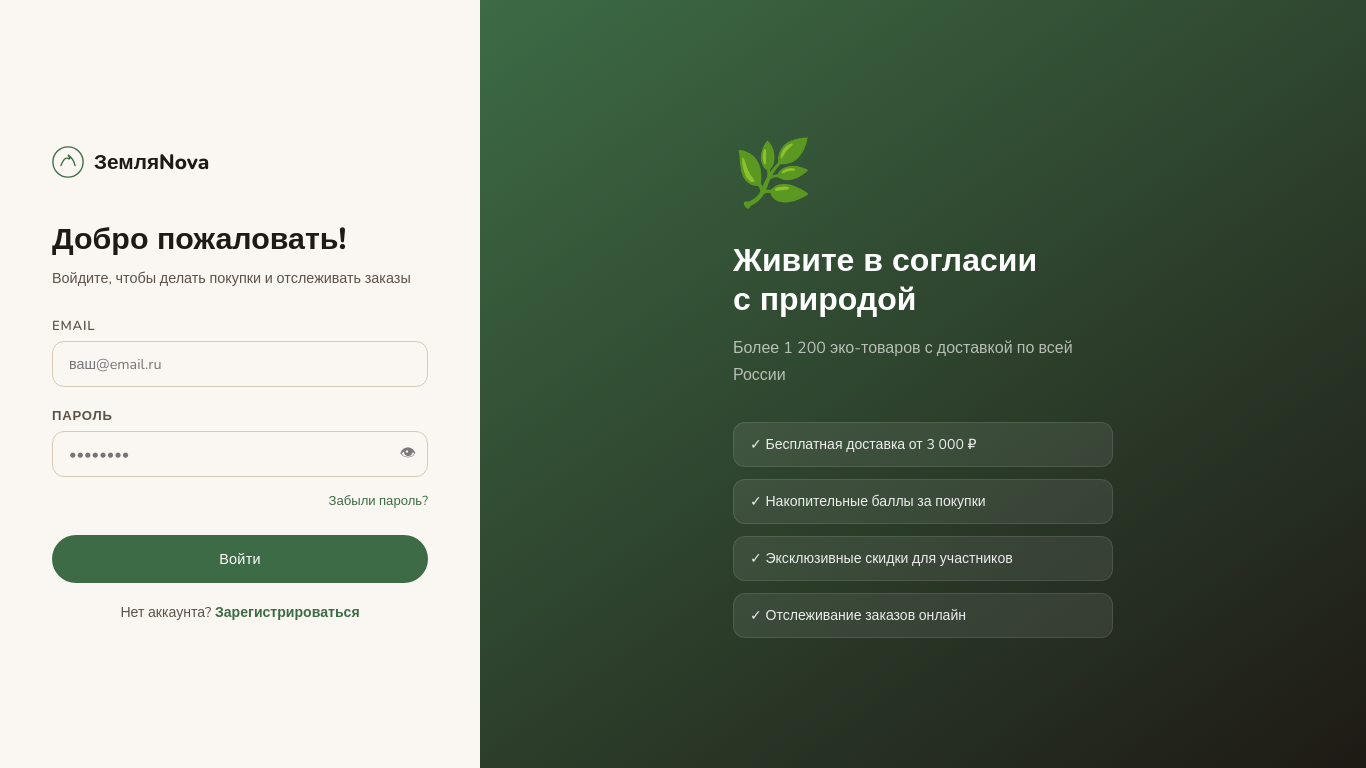
Test case: LoginPage › показывает ошибку сервера при неверных данных
Step 1. Type "test@test.com" into the field with placeholder "ваш@email.ru" → {"x": 240, "y": 364}, box [52,341,428,387]
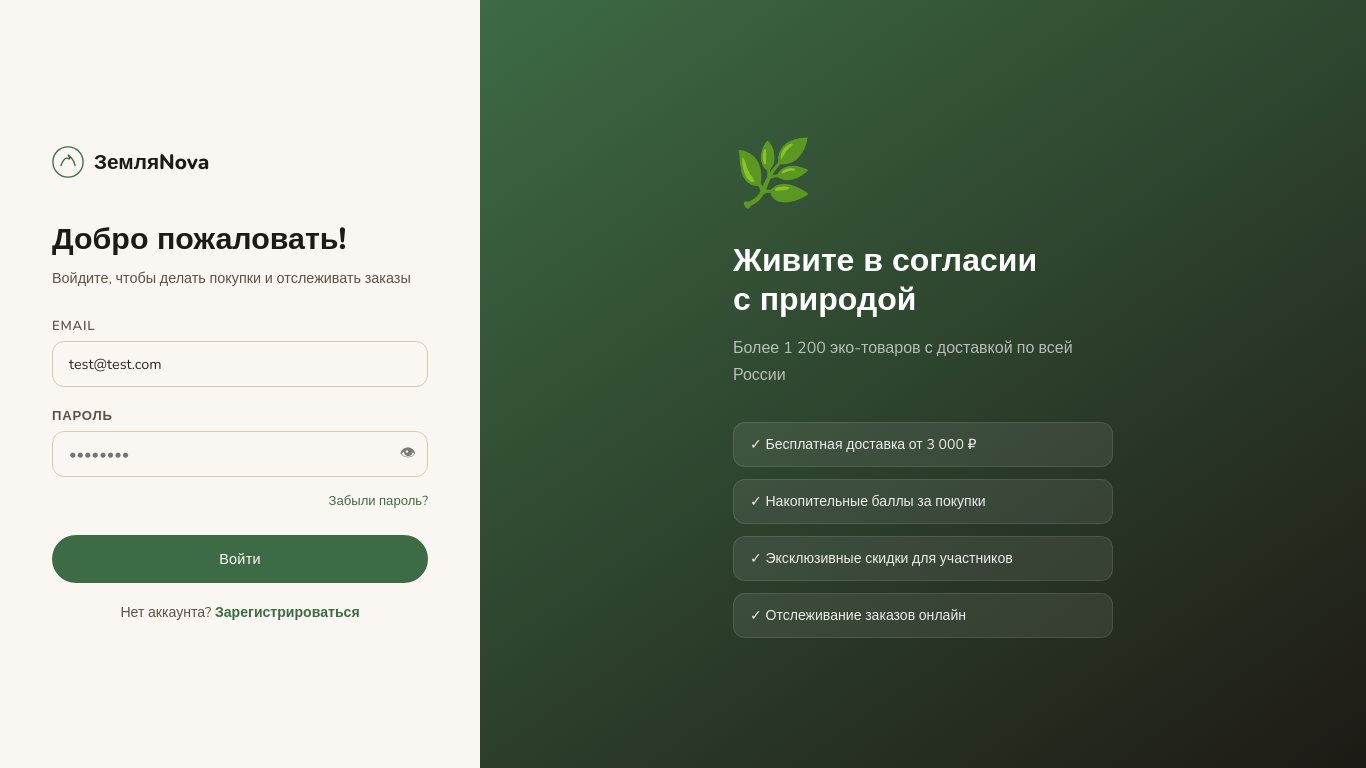
Step 2. Type "wrongpassword" into the password field with placeholder "••••••••" → {"x": 240, "y": 454}, box [52,431,428,477]
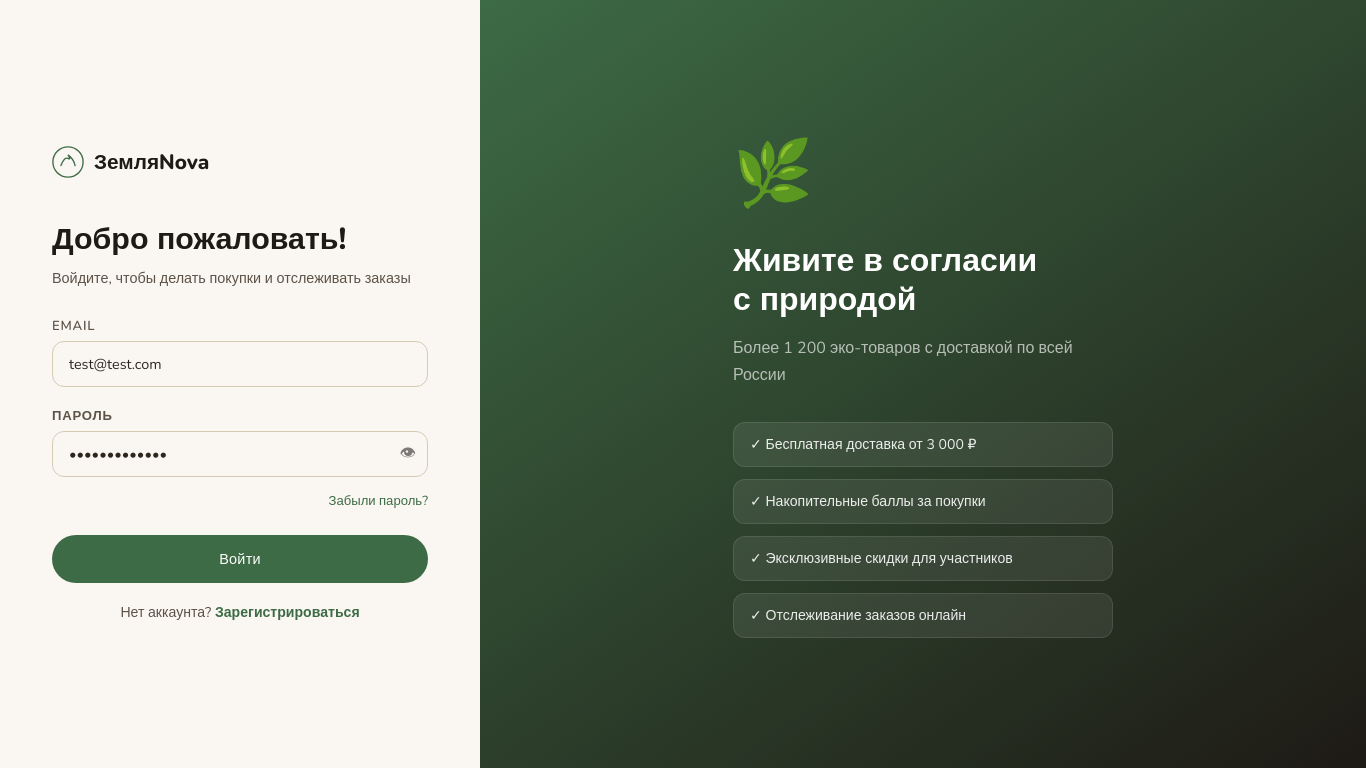
Step 3. Click the button "Войти" → {"x": 240, "y": 559}, box [52,535,428,583]
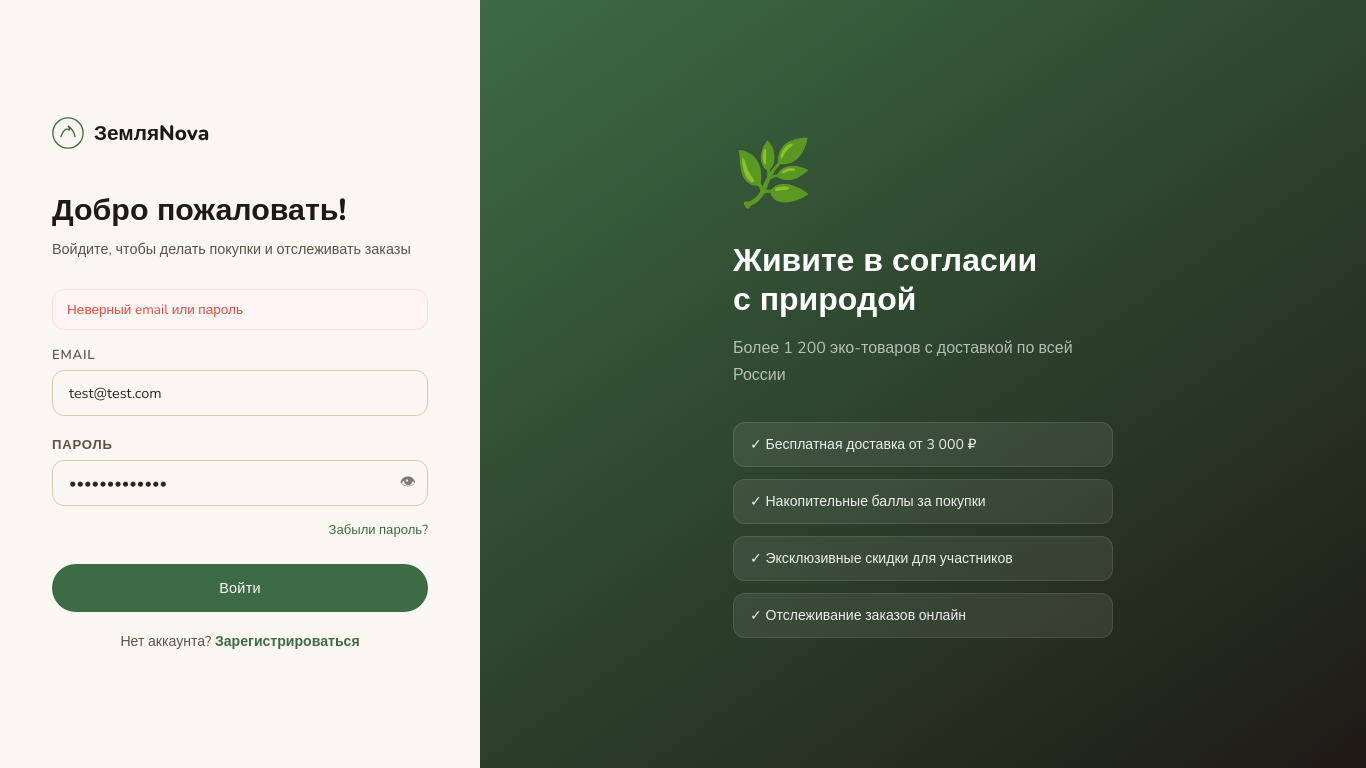
Check: the text "Неверный email или пароль" is shown, box [52,289,428,330]
